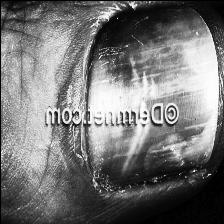Toxin: (85, 0, 216, 103), (142, 127, 220, 184)
